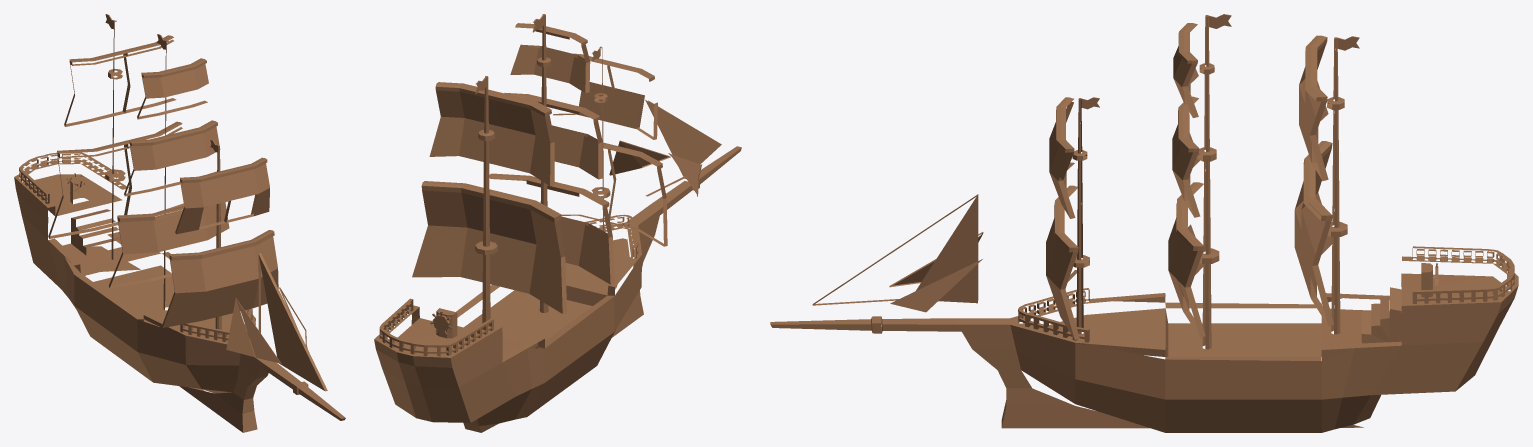
The model's file is polypizza-sail-ship.glb.
3 views of the same model, side by side, from view 1: azimuth 30°, elevation 25°; view 2: azimuth 150°, elevation 25°; view 3: azimuth 270°, elevation 25° (orthographic). The views are drawn at different scales.
Parts seen in each view (by area): view 1: BackSail; view 2: BackSail; view 3: BackSail.
Part boxes in pixels (x1=…): BackSail: x1=14, y1=14, x2=345, y2=432; BackSail: x1=374, y1=14, x2=741, y2=432; BackSail: x1=770, y1=14, x2=1518, y2=432.
Bounding box in the file's own units: 0.2659 × 0.6038 × 1.
